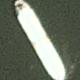ship: (0, 0, 29, 40)
